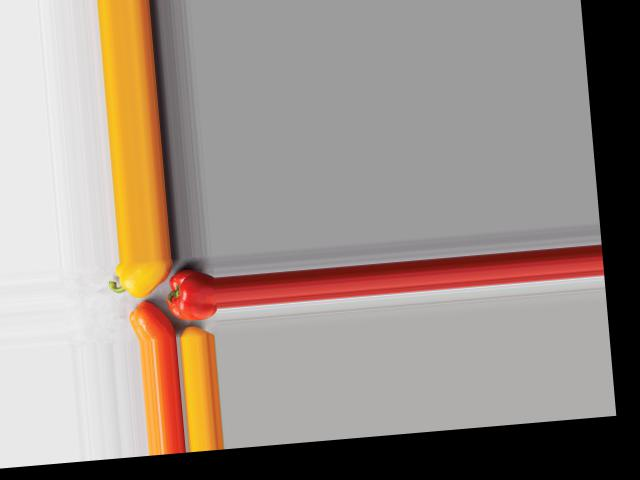bell_pepper: (165, 263, 216, 322)
